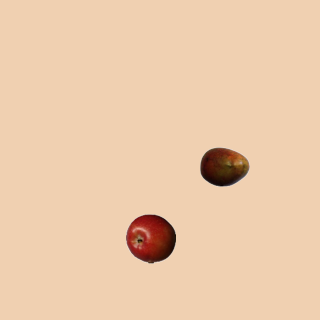Apple Braeburn: (125, 213, 175, 263)
Mango Red: (199, 141, 249, 191)
